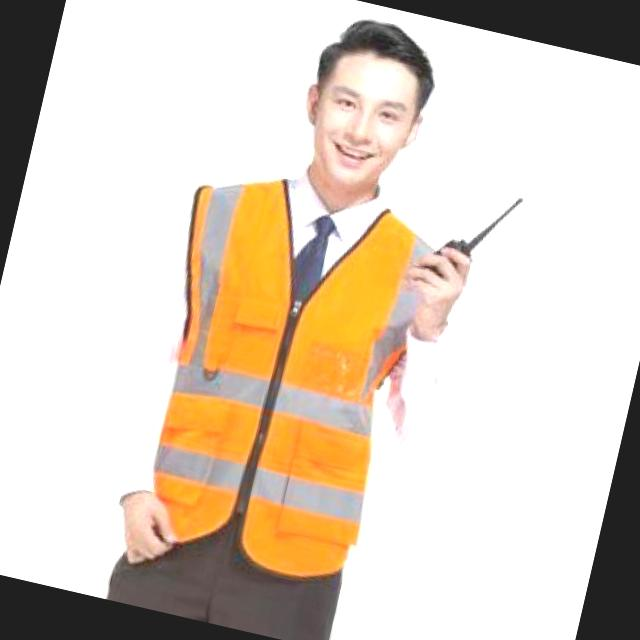vest: (120, 164, 433, 586)
